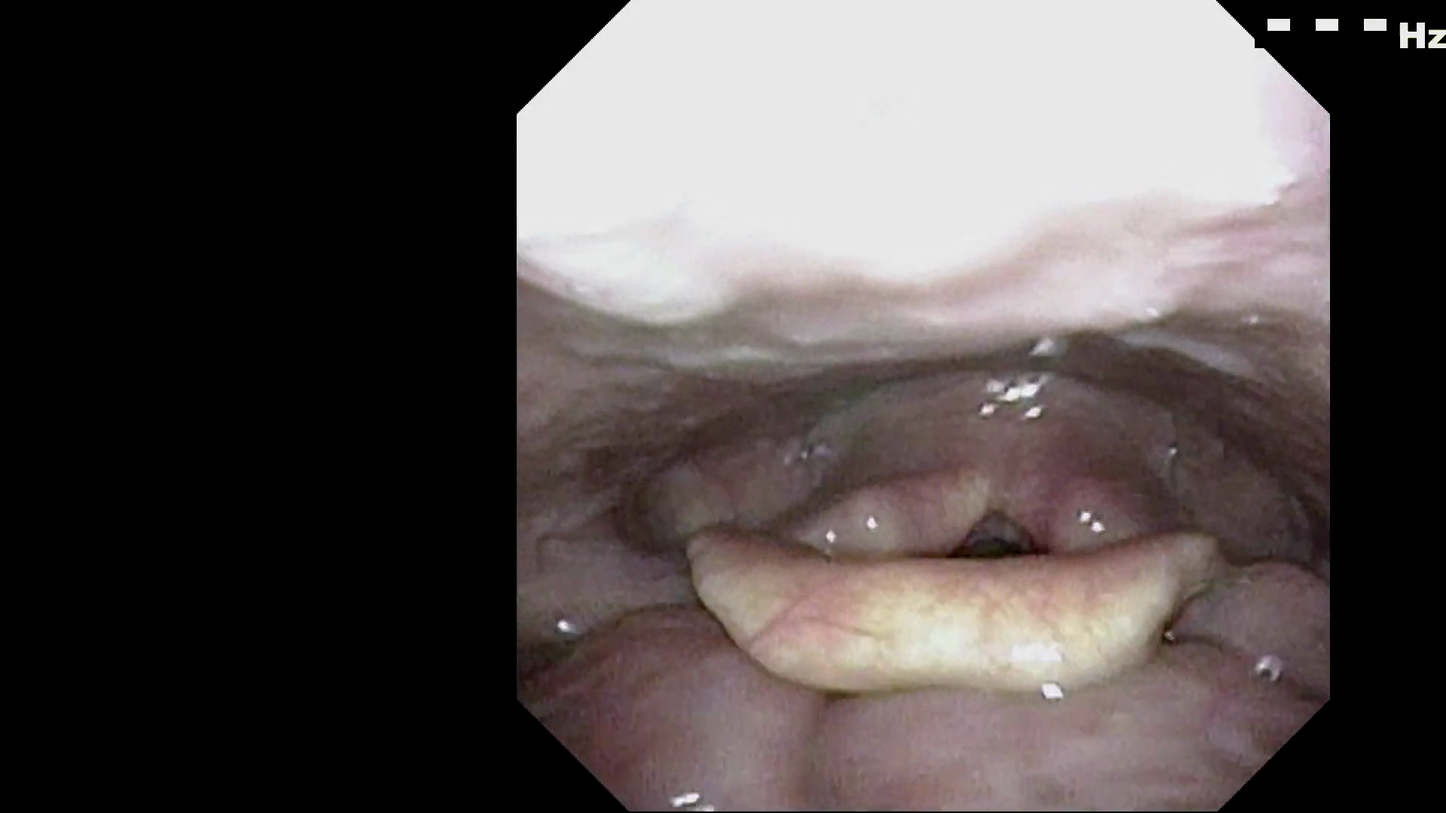epiglottis: (696, 504, 1238, 644)
